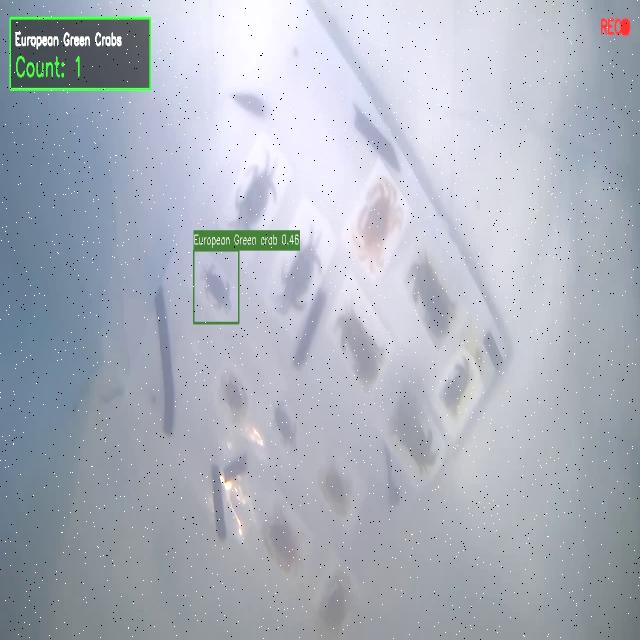European_Green_Crab: (270, 211, 331, 325), (224, 142, 289, 246), (267, 395, 305, 459), (199, 255, 239, 315)
